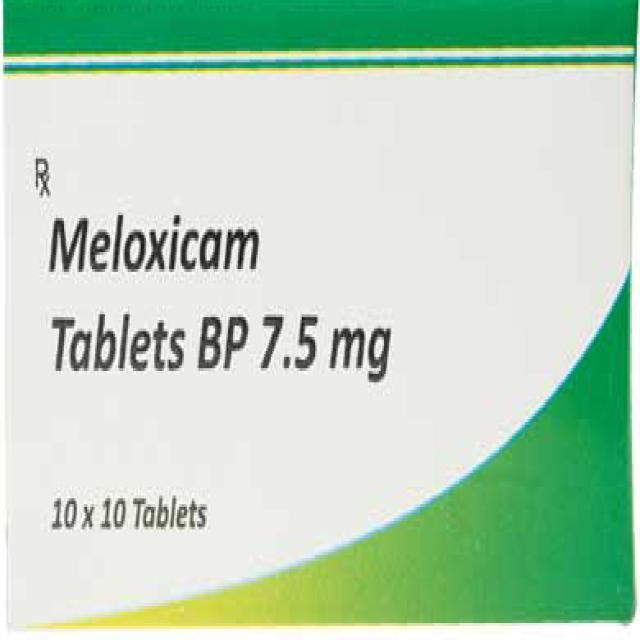drug-name: (43, 205, 267, 280)
